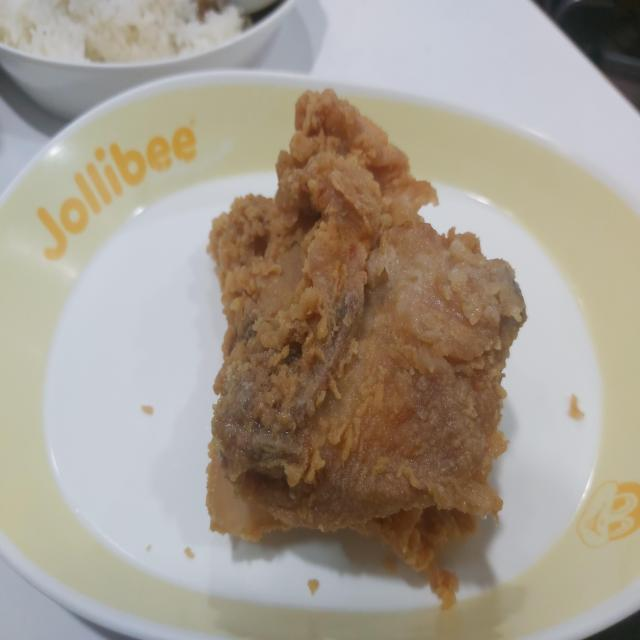Chicken -Fried Chicken-: (179, 55, 582, 611)
